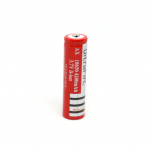Battery: (58, 29, 92, 124)
